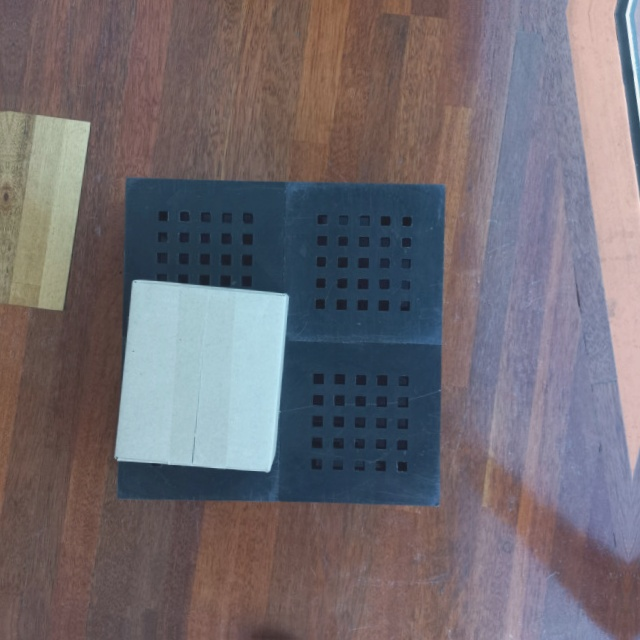box: (112, 277, 289, 473)
pallet: (105, 173, 451, 514)
